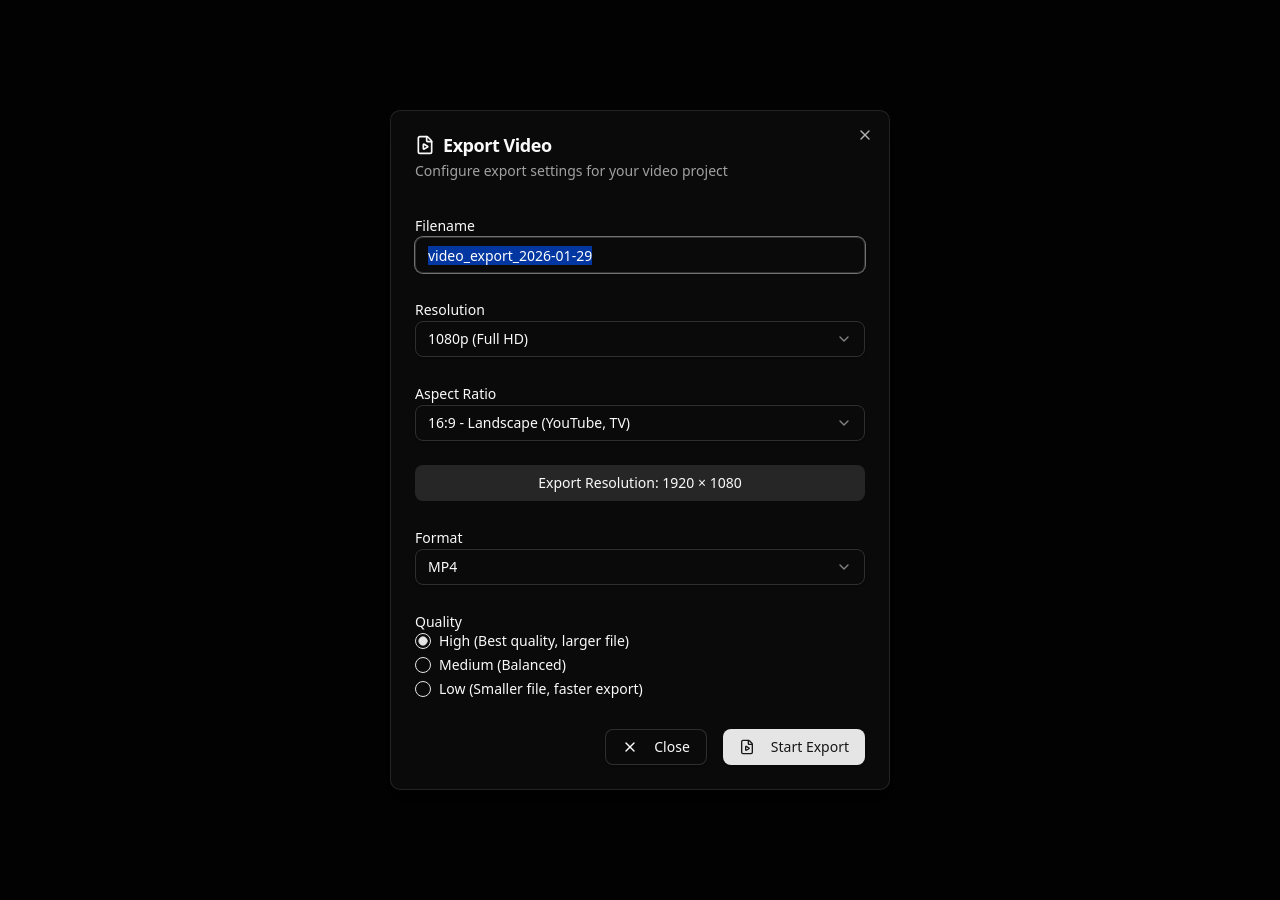
Test: ExportDialog Component › Form Interactions › should disable Start Export button when filename is empty
Clear the field labelled "Filename" at (640, 255), box [415, 237, 865, 273]
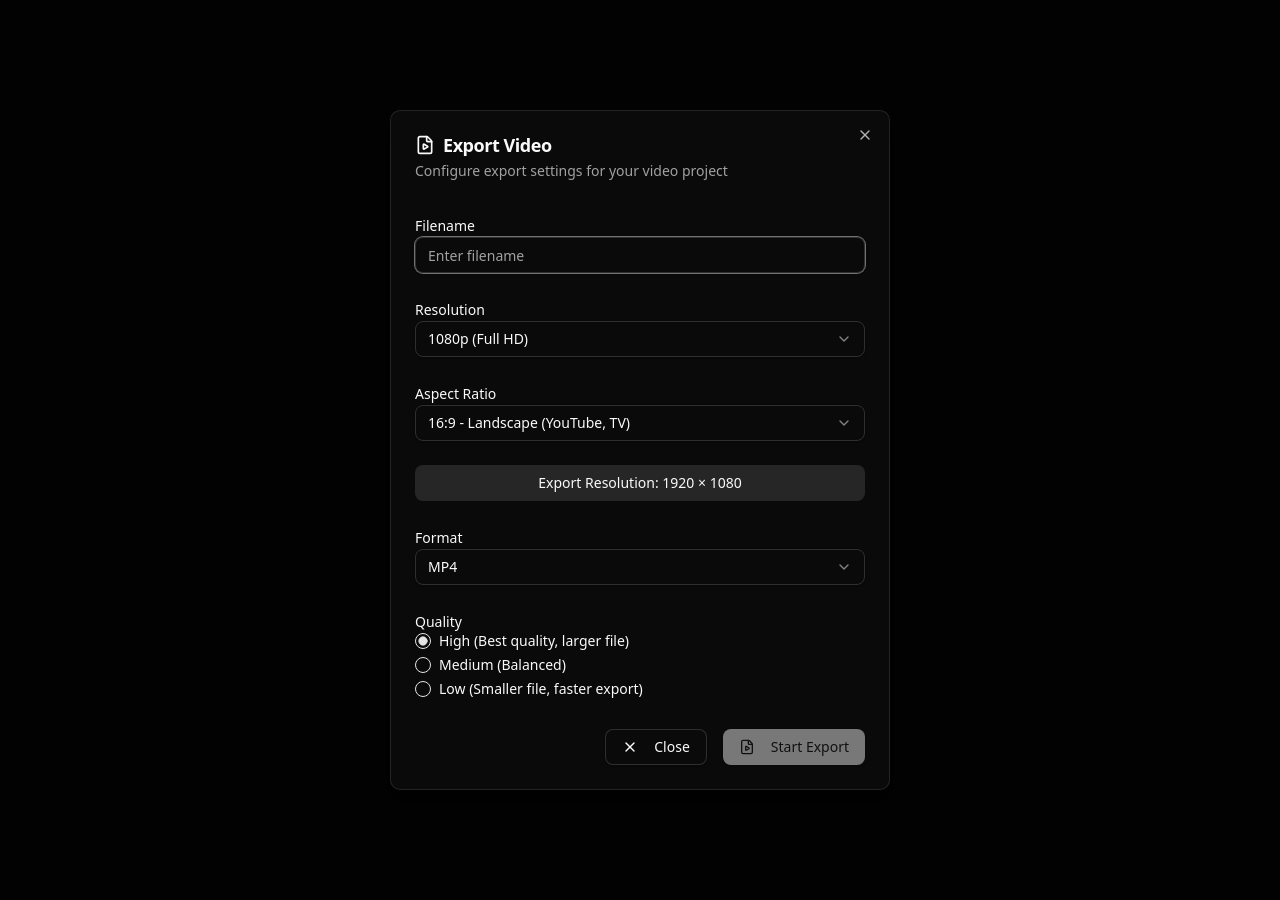
Expected: the button "Start Export" is disabled, [723, 729, 865, 765]
